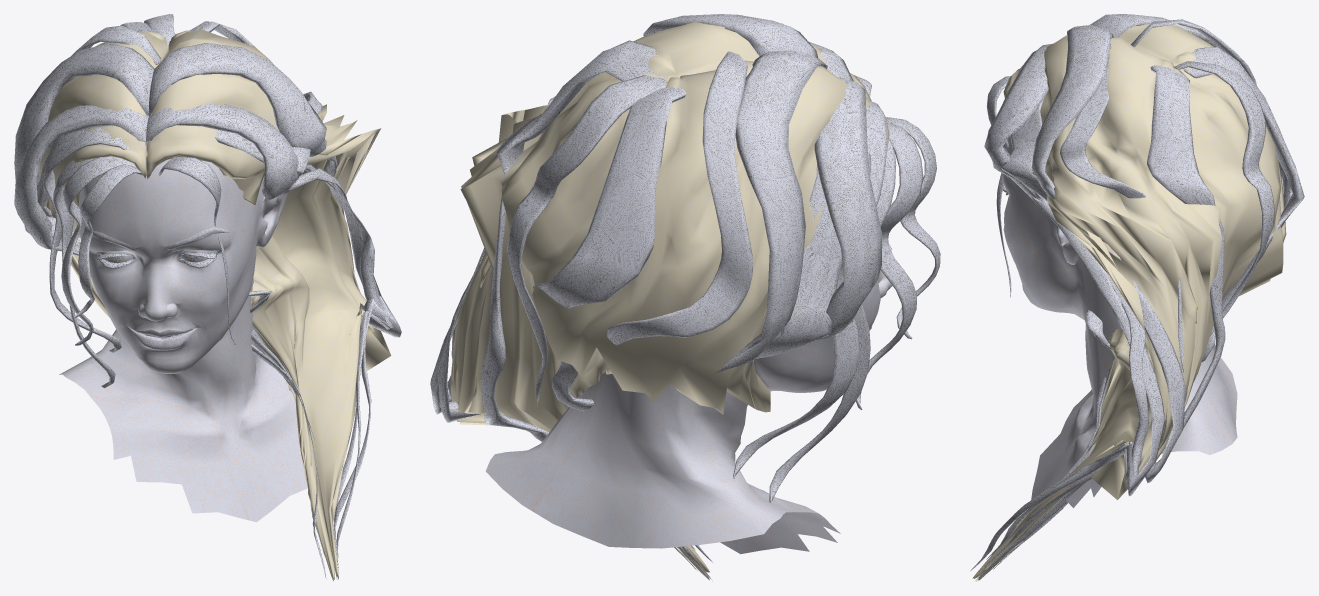
Rendered from head_full.dae.
3 views of the same model, side by side, from view 1: azimuth 30°, elevation 25°; view 2: azimuth 150°, elevation 25°; view 3: azimuth 270°, elevation 25° (orthographic). The views are drawn at different scales.
Visible parts, largest first — view 1: instance_1_009, instance_0, instance_0_004, instance_0_011, instance_0_003, instance_0_005, instance_0_002, instance_0_016, instance_0_013, instance_0_012, instance_0_001, instance_0_015 (+5 smaller); view 2: instance_0, instance_1_009, instance_0_006, instance_0_005, instance_0_010, instance_0_003, instance_0_008, instance_0_007, instance_0_001, instance_0_016, instance_0_011, instance_0_013 (+3 smaller); view 3: instance_0, instance_1_009, instance_0_011, instance_0_004, instance_0_007, instance_0_002, instance_0_008, instance_0_006, instance_0_009, instance_0_010, instance_0_005, instance_0_014 (+1 smaller).
Part boxes in pixels (<box>): instance_1_009: <box>59,159,307,522</box>; instance_0: <box>39,29,391,581</box>; instance_0_004: <box>146,103,401,549</box>; instance_0_011: <box>148,43,359,559</box>; instance_0_003: <box>14,105,324,555</box>; instance_0_005: <box>14,43,285,369</box>; instance_0_002: <box>215,129,393,571</box>; instance_0_016: <box>43,128,129,352</box>; instance_0_013: <box>61,158,142,345</box>; instance_0_012: <box>74,164,142,317</box>; instance_0_001: <box>24,130,326,578</box>; instance_0_015: <box>53,156,135,387</box>; instance_0: <box>450,22,889,580</box>; instance_1_009: <box>485,271,892,554</box>; instance_0_006: <box>533,87,686,556</box>; instance_0_005: <box>674,50,827,569</box>; instance_0_010: <box>607,51,752,345</box>; instance_0_003: <box>680,77,881,564</box>; instance_0_008: <box>507,75,667,406</box>; instance_0_007: <box>480,40,677,547</box>; instance_0_001: <box>681,152,870,580</box>; instance_0_016: <box>733,100,886,478</box>; instance_0_011: <box>437,14,818,422</box>; instance_0_013: <box>855,121,923,409</box>; instance_0: <box>972,24,1286,580</box>; instance_1_009: <box>1002,136,1237,507</box>; instance_0_011: <box>983,25,1185,567</box>; instance_0_004: <box>984,43,1165,559</box>; instance_0_007: <box>975,65,1225,580</box>; instance_0_002: <box>969,97,1149,571</box>; instance_0_008: <box>1174,61,1274,335</box>; instance_0_006: <box>976,47,1304,581</box>; instance_0_009: <box>1060,64,1183,372</box>; instance_0_010: <box>1131,19,1292,207</box>; instance_0_005: <box>993,14,1216,569</box>; instance_0_014: <box>986,76,1011,297</box>.
Size of the model in its own units: 0.3177 by 0.2534 by 0.4229.
